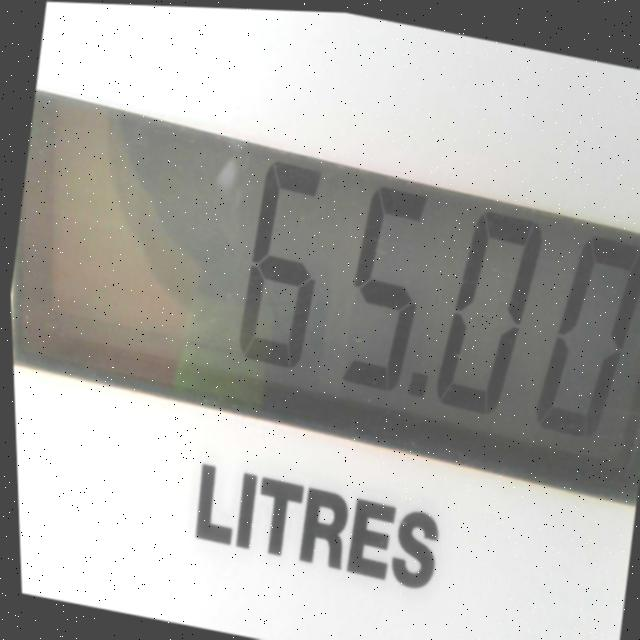.: (401, 360, 427, 397)
0: (430, 203, 545, 418), (528, 225, 640, 433)
5: (335, 169, 437, 391)
6: (227, 153, 336, 377)
